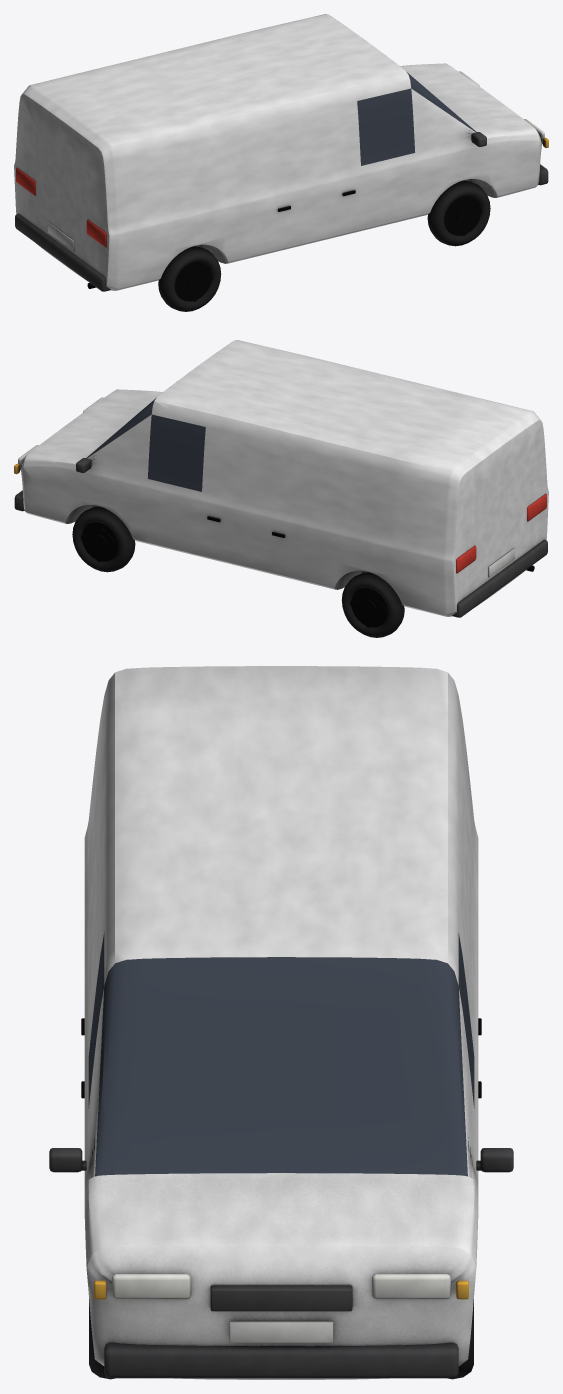
The model's file is van_tex.glb.
The picture shows the model from 3 angles, top to bottom: view 1: azimuth 30°, elevation 25°; view 2: azimuth 150°, elevation 25°; view 3: azimuth 270°, elevation 25°; orthographic projection. The views are drawn at different scales.
Visible parts, largest first — view 1: car; view 2: car; view 3: car.
Boxes of the visible parts, bbox=[...] form: car: bbox=[14, 14, 548, 311]; car: bbox=[14, 340, 548, 637]; car: bbox=[49, 666, 513, 1379].
Size of the model in its own units: 4.98 by 1.97 by 2.24.
Materials: 4 (3 with a texture image).
